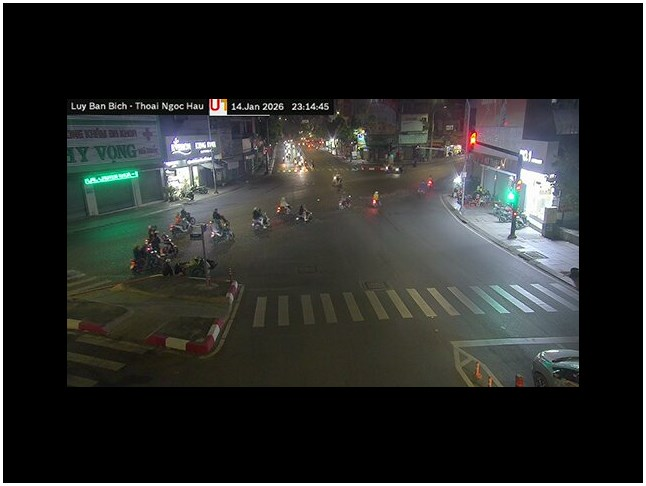car: (452, 336, 578, 388), (531, 347, 579, 386)
